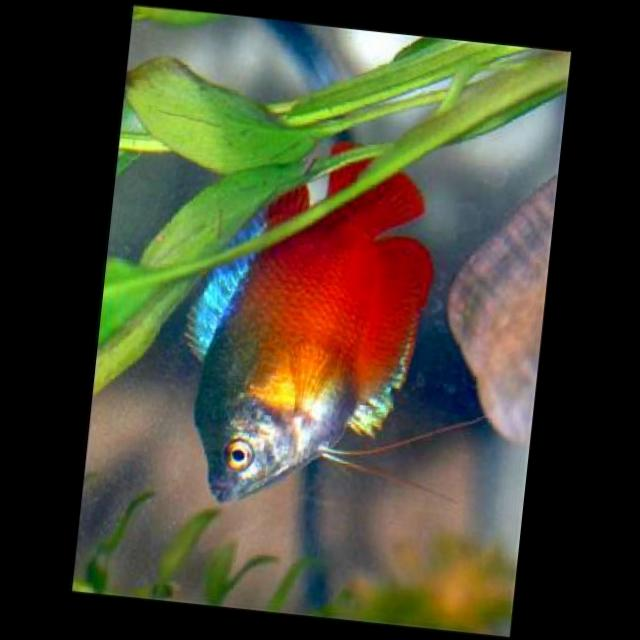Gourami: (162, 127, 442, 534)
